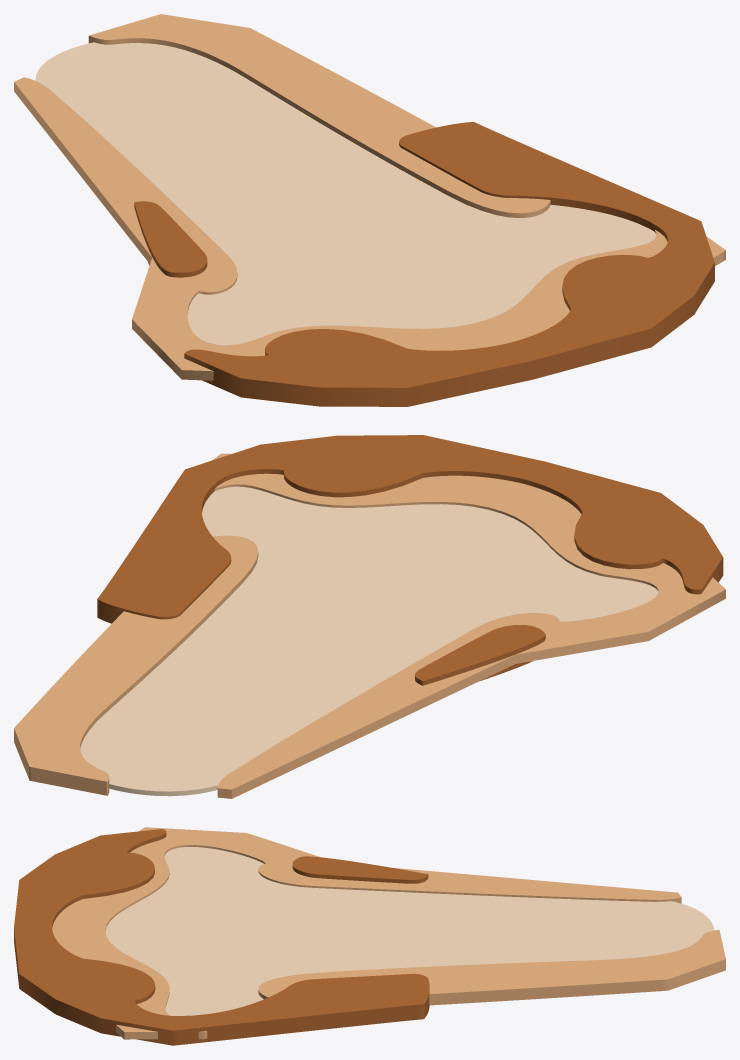
File: emoji_u1f443_1f3fb.glb
3 renders of one model, top to bottom at view 1: azimuth 30°, elevation 25°; view 2: azimuth 150°, elevation 25°; view 3: azimuth 270°, elevation 25°, orthographic. The views are drawn at different scales.
Visible parts, largest first — view 1: emoji_u1f443_1f3fb; view 2: emoji_u1f443_1f3fb; view 3: emoji_u1f443_1f3fb.
Boxes of the visible parts, x1,y1,x2,y2 form: emoji_u1f443_1f3fb: (14,14,725,406); emoji_u1f443_1f3fb: (14,435,725,798); emoji_u1f443_1f3fb: (14,827,725,1045).
Size of the model in its own units: 0.0236 by 0.0008 by 0.0343.
